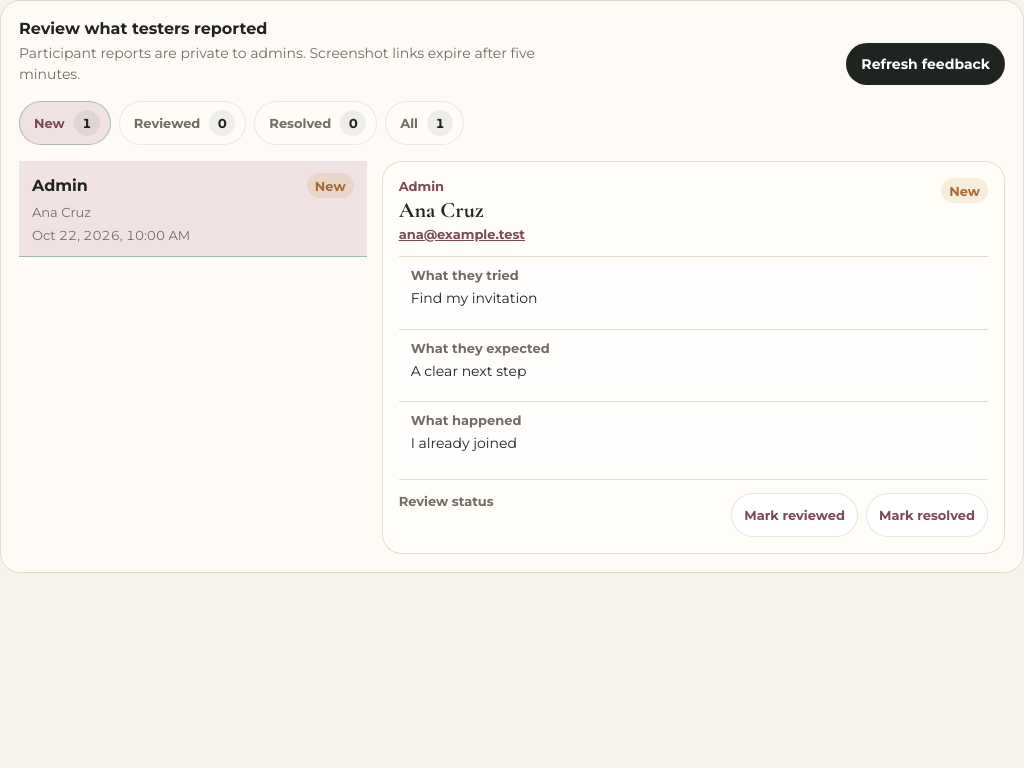
Test: PilotFeedbackInbox › keeps a failed save recoverable with the same selected report
expect the text "Find my invitation" is shown: met, box 411,289 -> 537,307
Click the button "Mark resolved" at x=927, y=515, box 866,493 -> 988,537
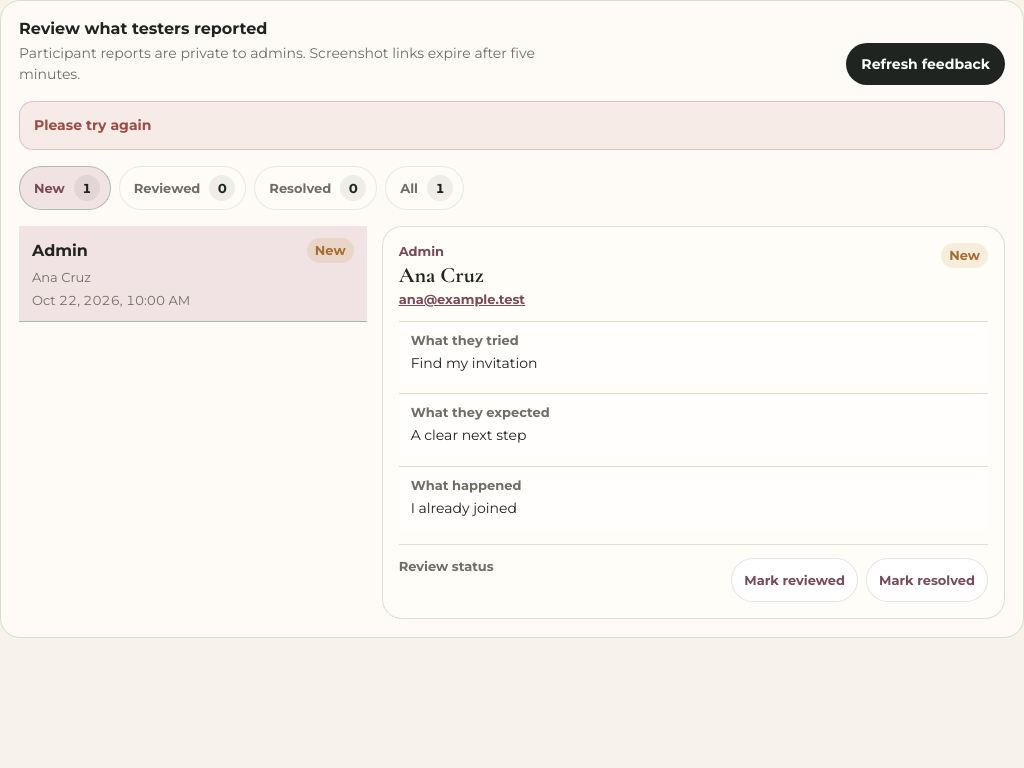
expect the button "Mark resolved" is enabled: met, box 866,558 -> 988,602
expect the text "Please try again" is shown: met, box 19,101 -> 1005,150
